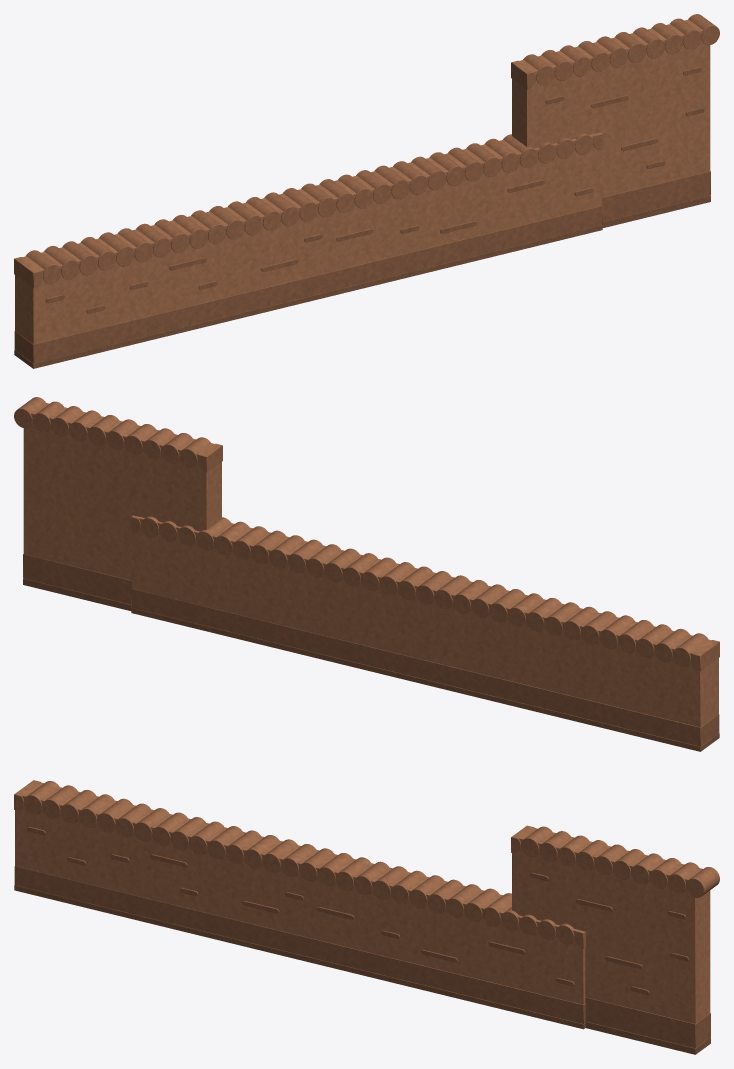
File: grond_level5.glb
3 views of the same model, one above another, from view 1: azimuth 30°, elevation 25°; view 2: azimuth 150°, elevation 25°; view 3: azimuth 330°, elevation 25° (orthographic).
Visible parts, largest first — view 1: grond_L5_01, grond_L5_02; view 2: grond_L5_01, grond_L5_02; view 3: grond_L5_01, grond_L5_02.
Part boxes in pixels (x1=…): grond_L5_01: x1=14, y1=132, x2=602, y2=368; grond_L5_02: x1=511, y1=14, x2=719, y2=227; grond_L5_01: x1=131, y1=515, x2=719, y2=751; grond_L5_02: x1=14, y1=397, x2=222, y2=610; grond_L5_01: x1=14, y1=780, x2=585, y2=1029; grond_L5_02: x1=511, y1=825, x2=719, y2=1054.
Size of the model in its own units: 22.52 by 5.51 by 1.13.
4 materials, 4 textured.
